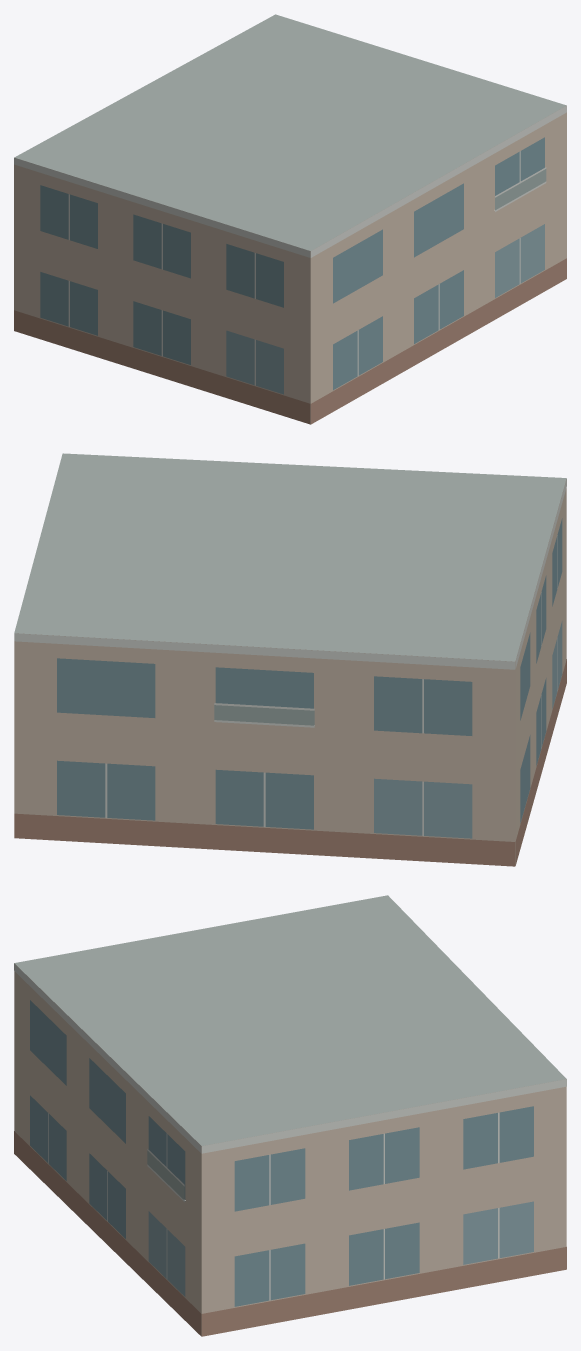
File: survey-upis-32859859.glb
The picture shows the model from 3 angles, top to bottom: view 1: azimuth 30°, elevation 25°; view 2: azimuth 150°, elevation 25°; view 3: azimuth 270°, elevation 25°; orthographic projection. The views are drawn at different scales.
Parts seen in each view (by area): view 1: survey-upis-32859859.tmp; view 2: survey-upis-32859859.tmp; view 3: survey-upis-32859859.tmp.
Part boxes in pixels (x1,y1,x2,y2): survey-upis-32859859.tmp: [14, 14, 566, 424]; survey-upis-32859859.tmp: [14, 453, 566, 866]; survey-upis-32859859.tmp: [14, 895, 566, 1336].
Bounding box in the file's own units: 17.24 × 6.1 × 16.04.
